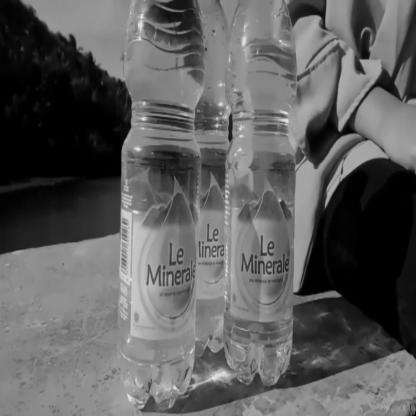plastic_bottles: (114, 0, 208, 408), (224, 0, 298, 384)
